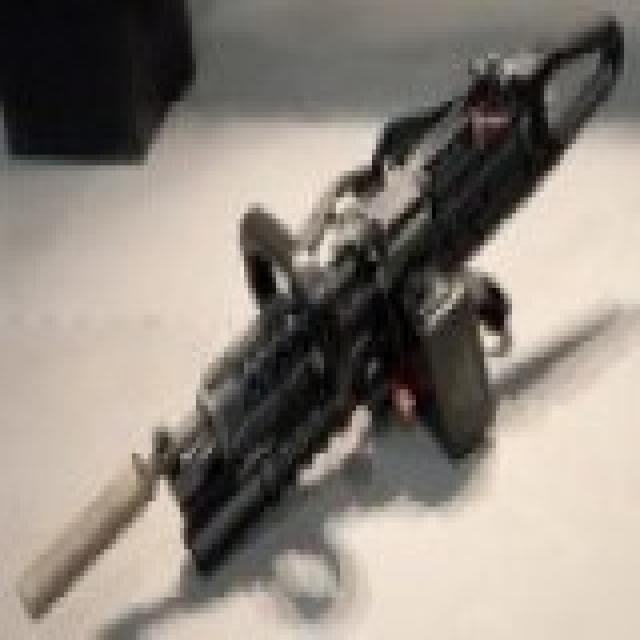Gun: (11, 7, 631, 626)
